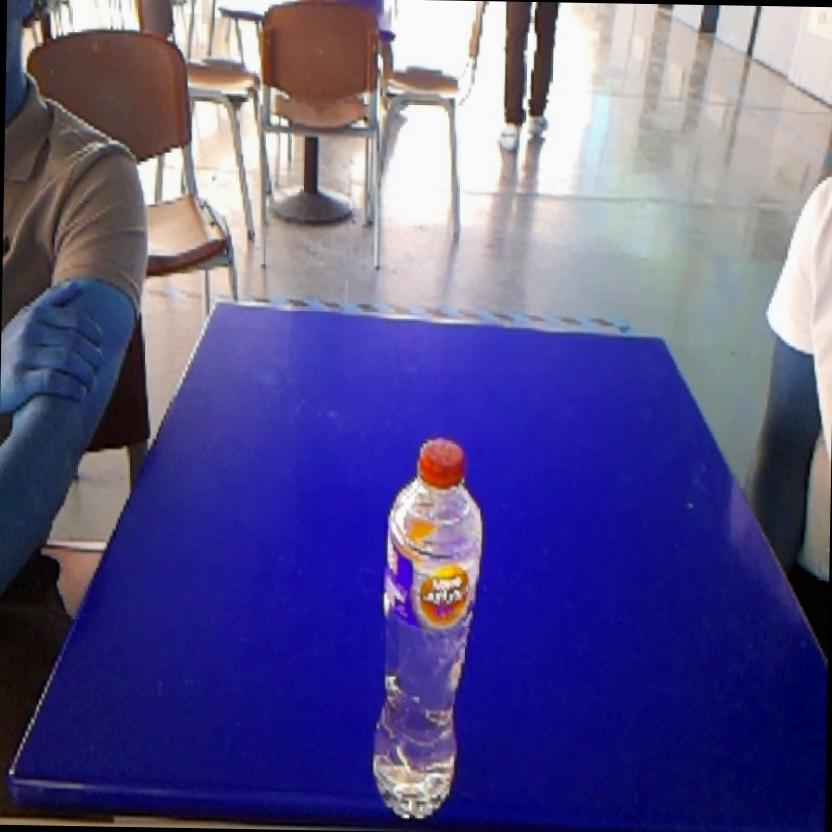good: (361, 420, 496, 832)
